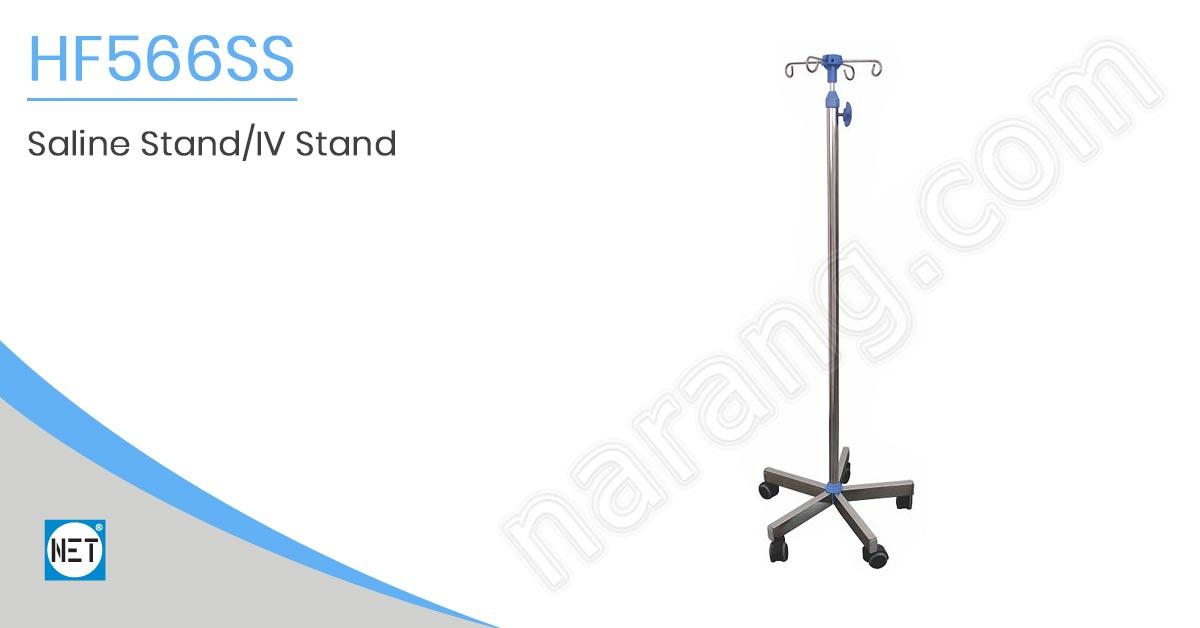Saline Stand: (757, 51, 915, 569)
